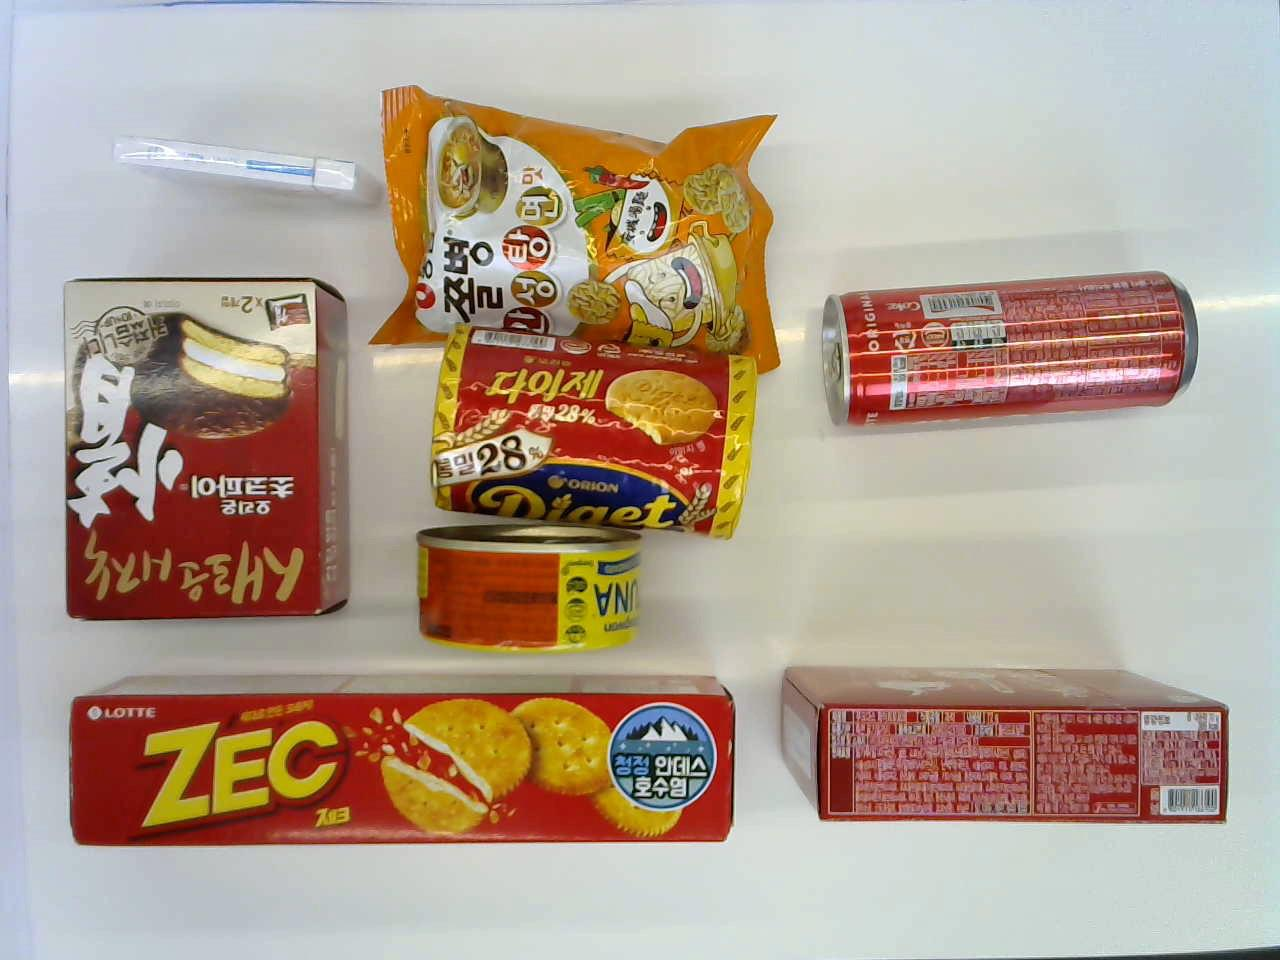ID_gum: (97, 119, 383, 220)
chocopie: (49, 257, 349, 625)
coke: (807, 259, 1199, 449)
couque_white: (770, 663, 1238, 848)
diget_ori: (424, 330, 754, 539)
jjolbyung_noodle: (379, 79, 774, 388)
tuna: (392, 514, 647, 667)
zec: (46, 663, 756, 863)
